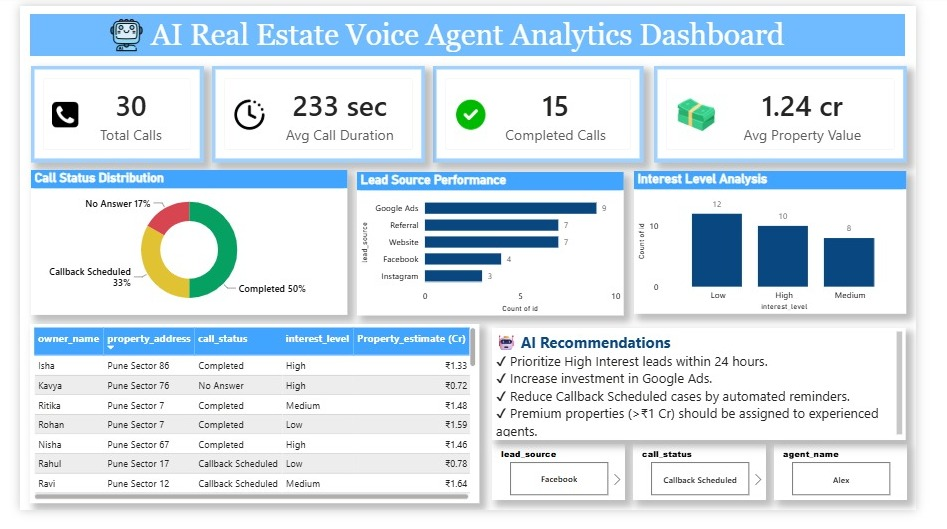

The dashboard page shown, as its layout file describes it:
{"tool":"powerbi","page":{"name":"Page 1","canvas":[1280,720],"ordinal":0},"visuals":[{"type":"cardVisual","fields":{"Data":["CountNonNull(public call_logs.id)"]},"box":[15,85.7,246.9,137.7],"z":0},{"type":"cardVisual","fields":{"Data":["public call_logs.Completed Calls"]},"box":[589.6,85.7,300.7,137.7],"z":1000},{"type":"cardVisual","title":"⏱️ Avg Call Duration","fields":{"Data":["public call_logs.Avg Duration"]},"box":[273.8,85.7,304,137.7],"z":2000},{"type":"cardVisual","fields":{"Data":["public call_logs.Avg Property Value (Cr)"]},"box":[905.4,85.7,361.2,137.7],"z":3000},{"type":"donutChart","title":"Call Status Distribution","fields":{"Category":["public call_logs.call_status"],"Y":["CountNonNull(public call_logs.id)"]},"box":[15.1,234.8,452,207],"z":4000},{"type":"clusteredBarChart","title":"Lead Source Performance","fields":{"Category":["public call_logs.lead_source"],"Y":["CountNonNull(public call_logs.id)"]},"box":[481.5,237.2,381.3,204.9],"z":5000},{"type":"clusteredColumnChart","title":"Interest Level Analysis","fields":{"Category":["public call_logs.interest_level"],"Y":["CountNonNull(public call_logs.id)"]},"box":[877.2,235.1,389.4,204.2],"z":6000},{"type":"tableEx","fields":{"Values":["public call_logs.owner_name","public call_logs.property_address","public call_logs.call_status","public call_logs.interest_level","public call_logs.Property_estimate (Cr)"]},"box":[14.7,454,642.1,255.7],"z":7000},{"type":"slicer","fields":{"Values":["public call_logs.lead_source"]},"box":[674.4,626,190,80],"z":8000},{"type":"slicer","fields":{"Values":["public call_logs.call_status"]},"box":[875.8,626,190,80],"z":9000},{"type":"slicer","fields":{"Values":["public call_logs.agent_name"]},"box":[1077.1,626,190,80],"z":10000},{"type":"textbox","box":[14.7,11.8,1250.4,60.2],"z":11000},{"type":"textbox","box":[674,460,590.7,160.2],"z":12000},{"type":"image","box":[127.8,19.1,50,45.6],"z":13000}]}

Visuals, with their boxes in screenshot pixels (x1, y1, x2, y2), scaled from the page's 1280x720 canvas onto the 947x529 screenshot:
cardVisual - CountNonNull(public call_logs.id): (11, 63, 194, 164)
cardVisual - public call_logs.Completed Calls: (436, 63, 659, 164)
"⏱️ Avg Call Duration" cardVisual: (203, 63, 427, 164)
cardVisual - public call_logs.Avg Property Value (Cr): (670, 63, 937, 164)
"Call Status Distribution" donutChart: (11, 173, 346, 325)
"Lead Source Performance" clusteredBarChart: (356, 174, 638, 325)
"Interest Level Analysis" clusteredColumnChart: (649, 173, 937, 323)
tableEx - public call_logs.owner_name x public call_logs.property_address: (11, 334, 486, 521)
slicer - public call_logs.lead_source: (499, 460, 640, 519)
slicer - public call_logs.call_status: (648, 460, 789, 519)
slicer - public call_logs.agent_name: (797, 460, 937, 519)
textbox: (11, 9, 936, 53)
textbox: (499, 338, 936, 456)
image: (95, 14, 132, 48)
